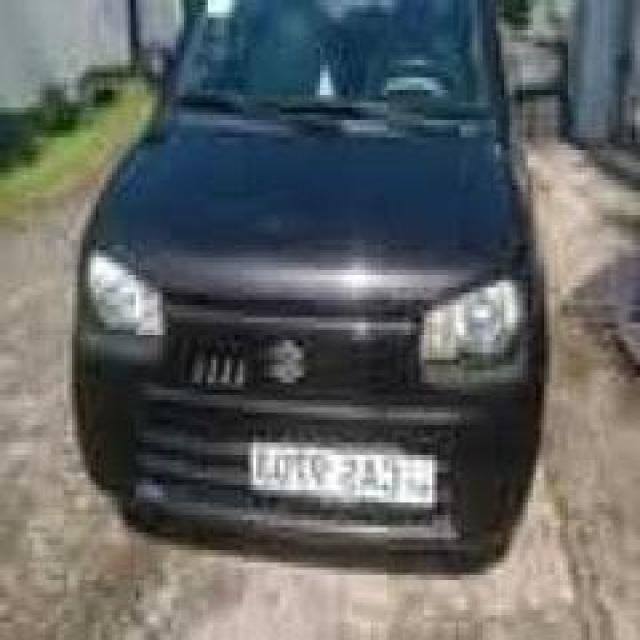car: (25, 4, 575, 588)
